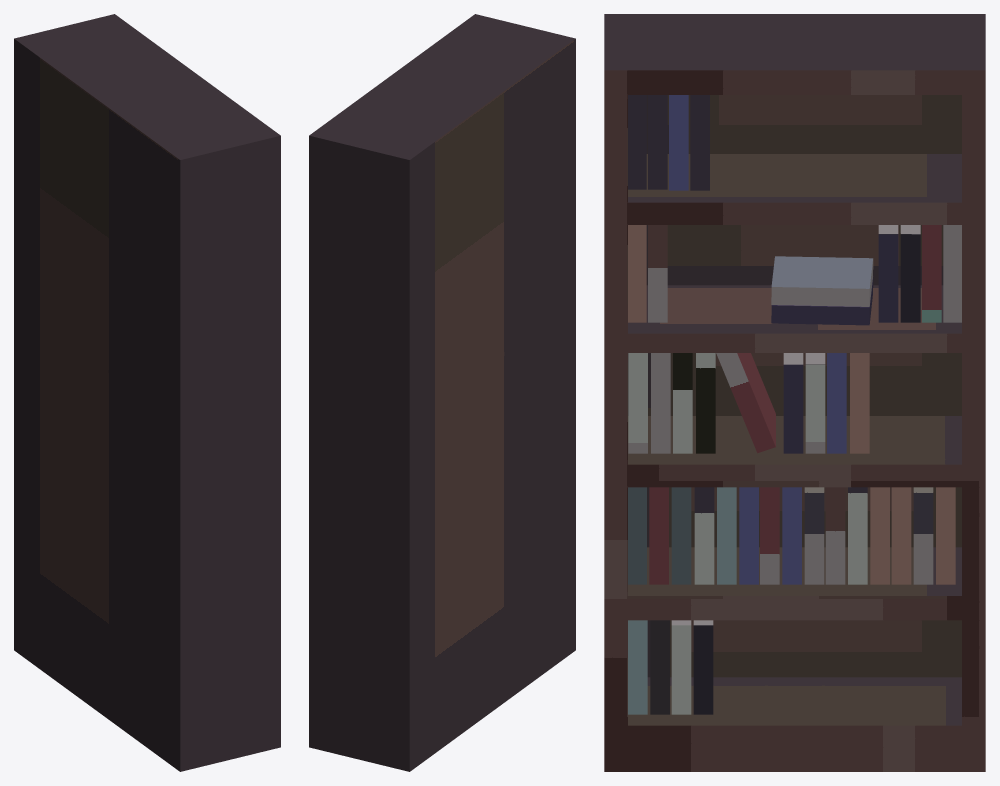
Rendered from bookshelf.fbx.
3 renders of one model, left to right at view 1: azimuth 30°, elevation 25°; view 2: azimuth 150°, elevation 25°; view 3: azimuth 270°, elevation 25°, orthographic. The views are drawn at different scales.
Parts seen in each view (by area): view 1: Cube; view 2: Cube; view 3: Cube.
Boxes of the visible parts, <box> form: Cube: <box>14,14,280,771</box>; Cube: <box>309,14,575,771</box>; Cube: <box>604,14,985,771</box>.
Bounding box in the file's own units: 275 × 1598 × 787.
Materials: 1 (1 with a texture image).
